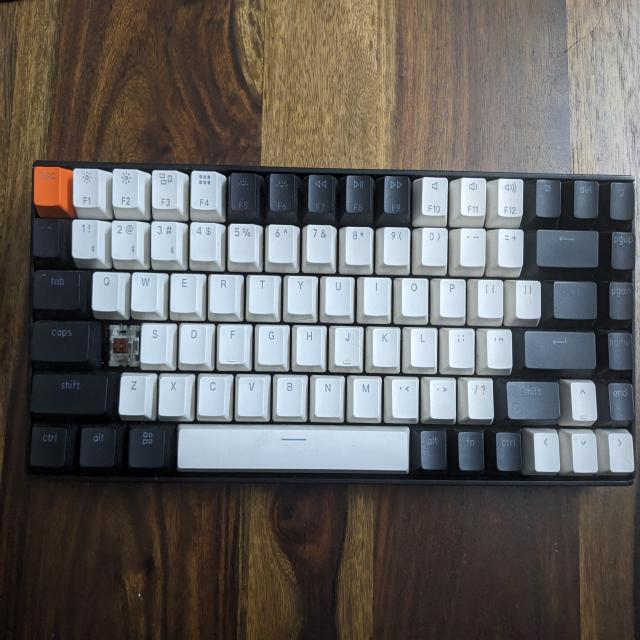C: (107, 321, 141, 368)
